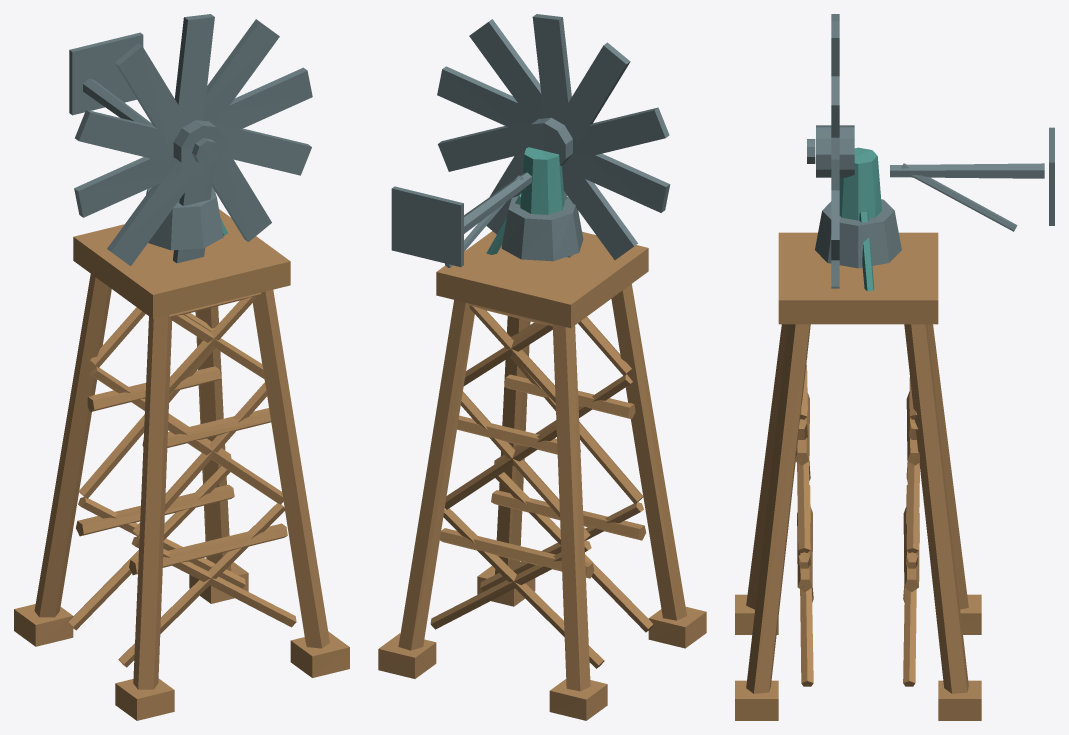
Rendered from Wind-Pump.glb.
3 views of the same model, side by side, from view 1: azimuth 30°, elevation 25°; view 2: azimuth 150°, elevation 25°; view 3: azimuth 270°, elevation 25° (orthographic). The views are drawn at different scales.
Parts seen in each view (by area): view 1: wind-pump-static-wind-pump-warm-timber-mat, wind-pump-static-wind-pump-dark-iron-mat, wind-pump-static-wind-pump-galvanized-metal-mat; view 2: wind-pump-static-wind-pump-warm-timber-mat, wind-pump-static-wind-pump-dark-iron-mat, wind-pump-static-wind-pump-galvanized-metal-mat, wind-pump-static-wind-pump-blue-gray-accent-mat; view 3: wind-pump-static-wind-pump-warm-timber-mat, wind-pump-static-wind-pump-dark-iron-mat, wind-pump-static-wind-pump-galvanized-metal-mat, wind-pump-static-wind-pump-blue-gray-accent-mat.
Boxes of the visible parts, x1,y1,x2,y2 form: wind-pump-static-wind-pump-warm-timber-mat: (14, 209, 349, 720); wind-pump-static-wind-pump-dark-iron-mat: (69, 14, 312, 266); wind-pump-static-wind-pump-galvanized-metal-mat: (146, 138, 223, 250); wind-pump-static-wind-pump-warm-timber-mat: (378, 231, 706, 720); wind-pump-static-wind-pump-dark-iron-mat: (391, 14, 670, 267); wind-pump-static-wind-pump-galvanized-metal-mat: (501, 196, 583, 261); wind-pump-static-wind-pump-blue-gray-accent-mat: (486, 147, 564, 254); wind-pump-static-wind-pump-warm-timber-mat: (735, 232, 981, 720); wind-pump-static-wind-pump-dark-iron-mat: (816, 14, 1054, 288); wind-pump-static-wind-pump-galvanized-metal-mat: (807, 139, 901, 268); wind-pump-static-wind-pump-blue-gray-accent-mat: (839, 147, 881, 291).
Bounding box in the file's own units: 1.12 × 2.94 × 1.32.
